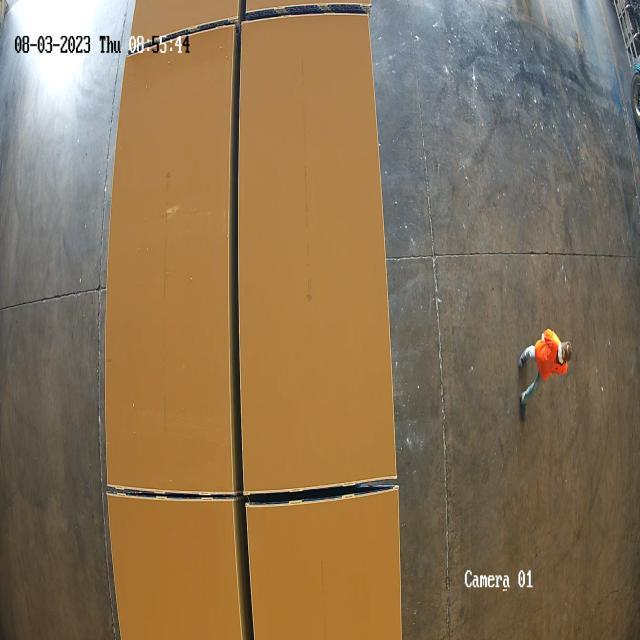person: (516, 320, 573, 425)
